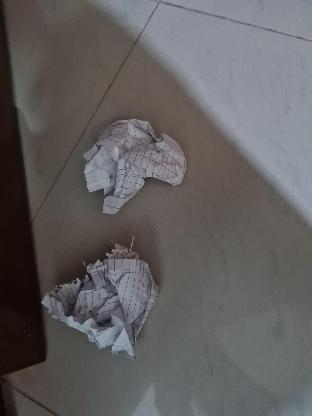Paper: (43, 235, 161, 366), (82, 115, 192, 214)
